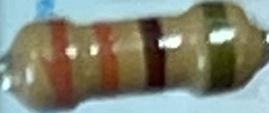Brown: (140, 18, 165, 92)
Orange: (95, 25, 120, 97)
Red: (51, 18, 73, 108)
Side-Gold: (204, 2, 236, 94)
